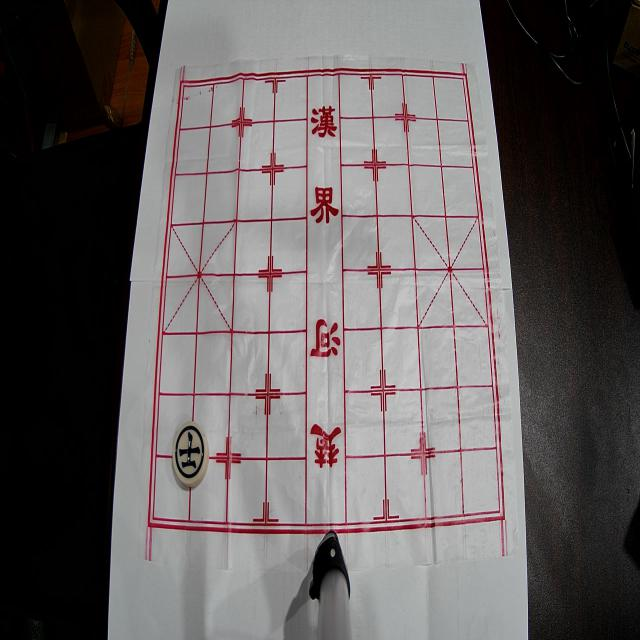black-guard: (172, 421, 210, 487)
